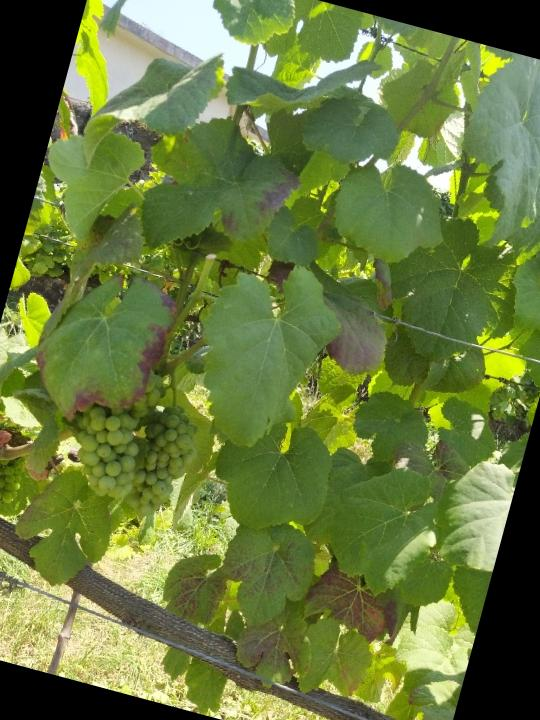grape: (61, 356, 171, 503), (126, 400, 208, 530)
